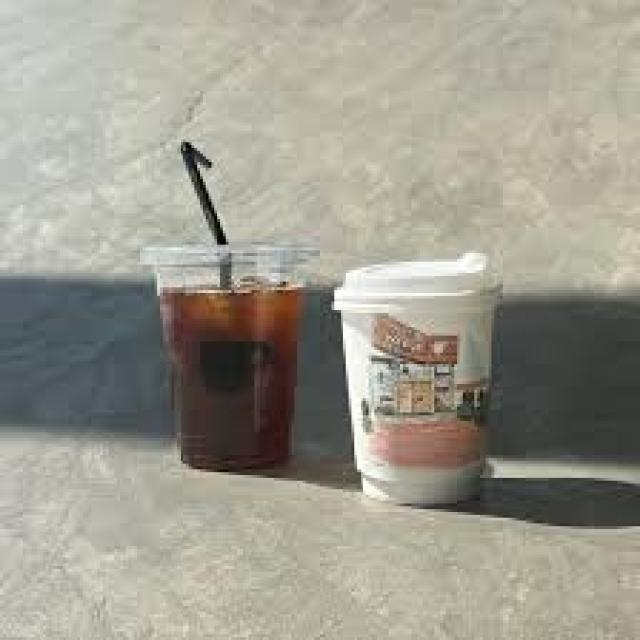bottle: (141, 244, 312, 468), (335, 271, 491, 504)
